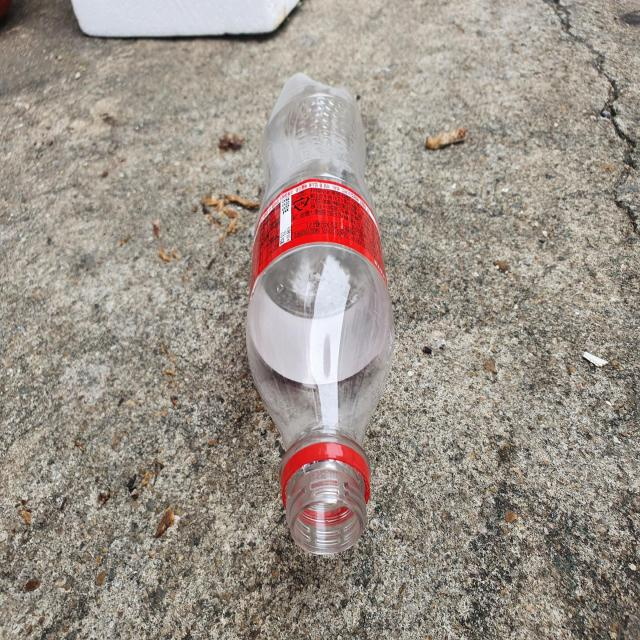plastic: (247, 72, 394, 555)
